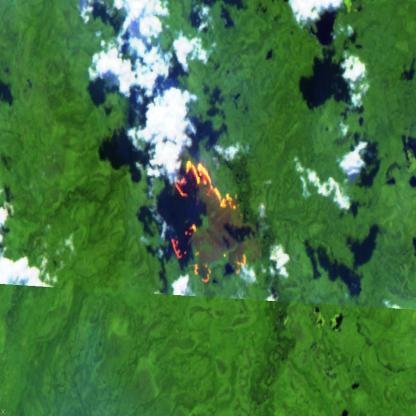fire: (166, 149, 249, 293)
